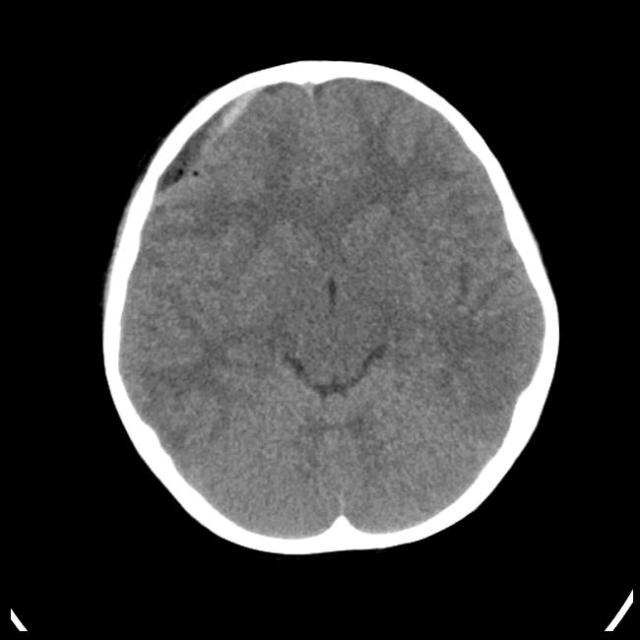lesion: (102, 61, 560, 553)
